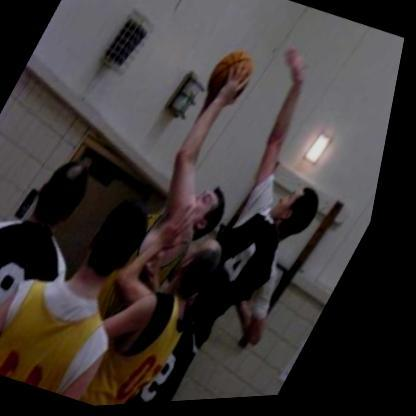basketball: (197, 33, 278, 116)
